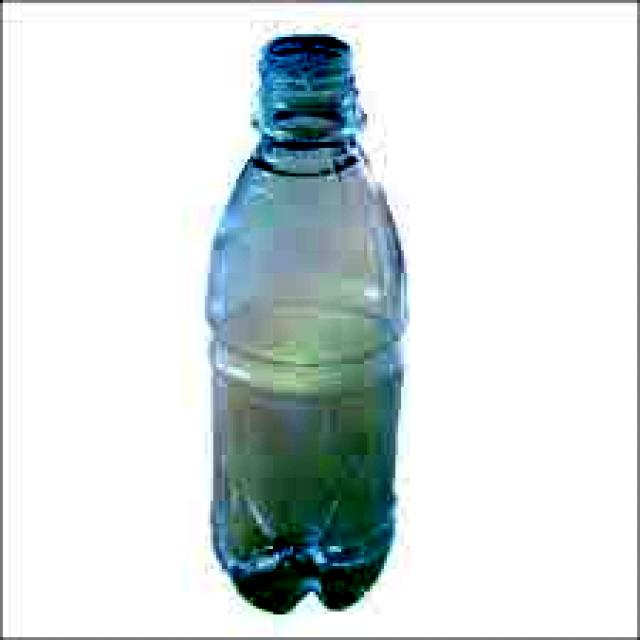Plastic: (200, 28, 410, 614)
